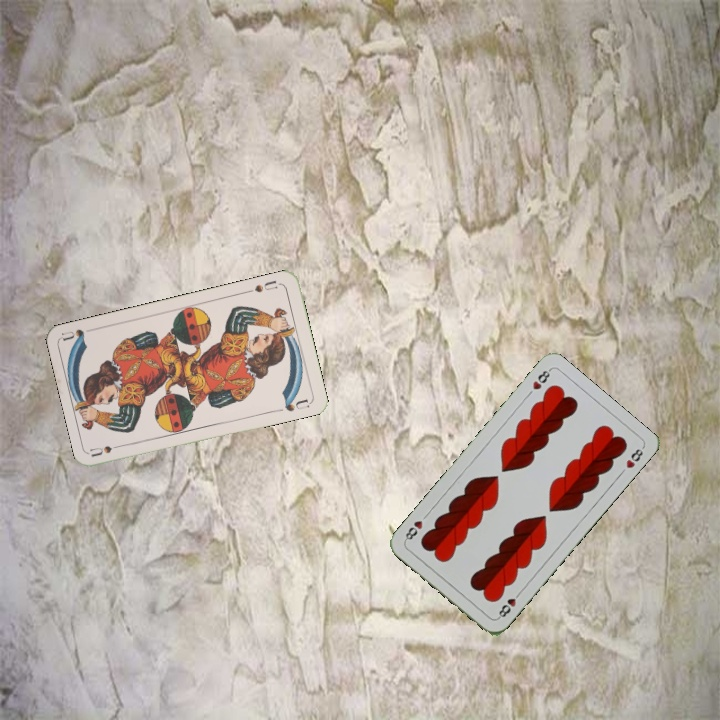H8: (494, 587, 524, 621), (528, 365, 553, 392)
SU: (87, 440, 128, 459), (243, 276, 280, 295)
